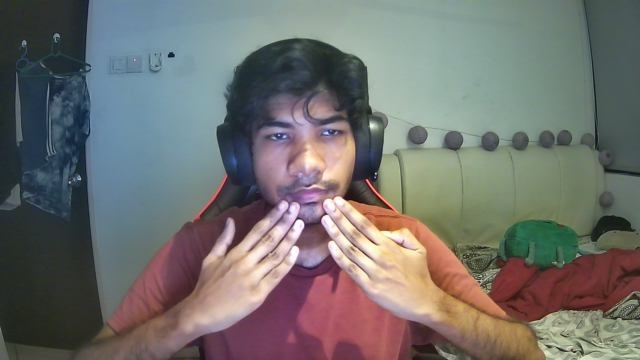Thank You: (194, 193, 439, 329)
